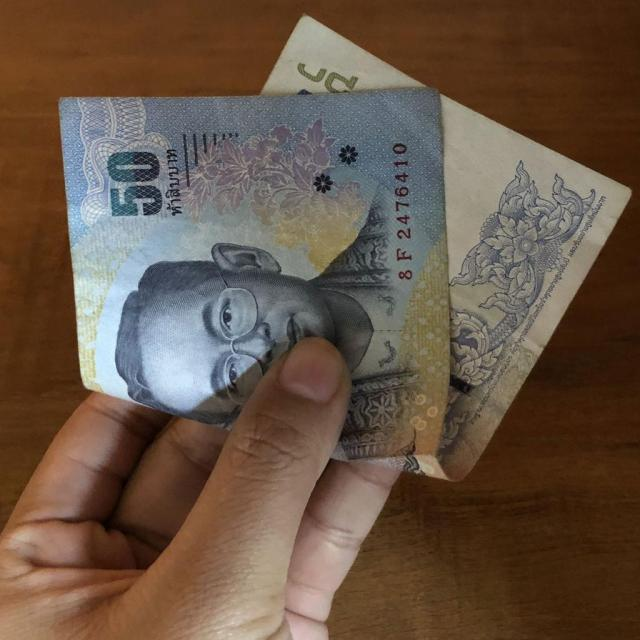THAI50: (59, 16, 632, 484)
